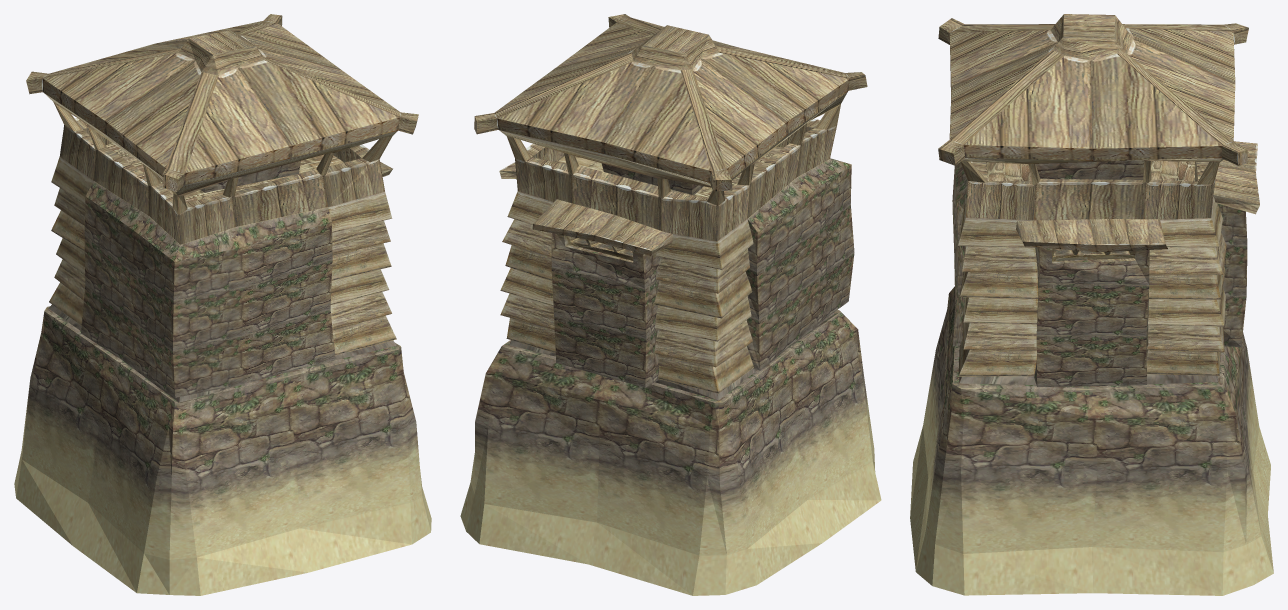
File: C3SMGBUILDING1H.obj
3 views of the same model, side by side, from view 1: azimuth 30°, elevation 25°; view 2: azimuth 150°, elevation 25°; view 3: azimuth 270°, elevation 25° (orthographic). The views are drawn at different scales.
Visible parts, largest first — view 1: Node 0; view 2: Node 0; view 3: Node 0.
Boxes of the visible parts, <box> form: Node 0: <box>14,14,431,595</box>; Node 0: <box>460,14,881,595</box>; Node 0: <box>910,14,1273,595</box>.
Size of the model in its own units: 13.24 by 19.87 by 13.22.
Materials: 2 (2 with a texture image).
